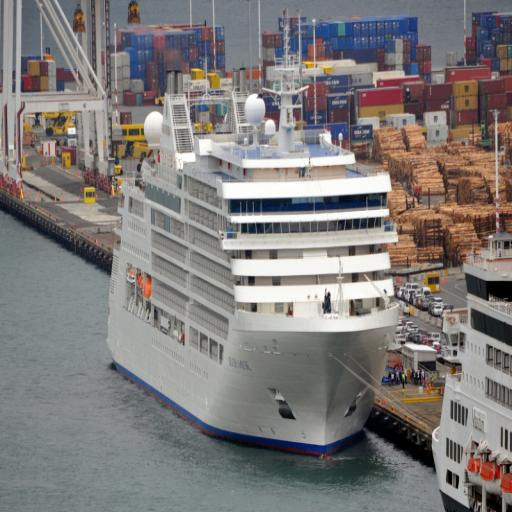cruises: (88, 63, 395, 455)
